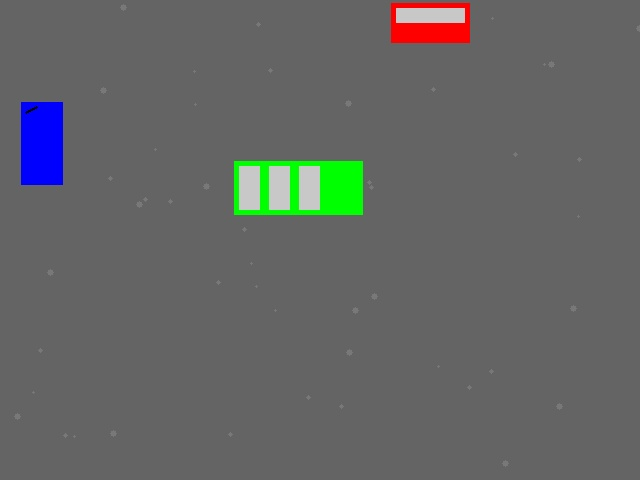bus: (234, 161, 362, 214)
car: (391, 3, 469, 42)
motorcycle: (21, 102, 62, 184)
